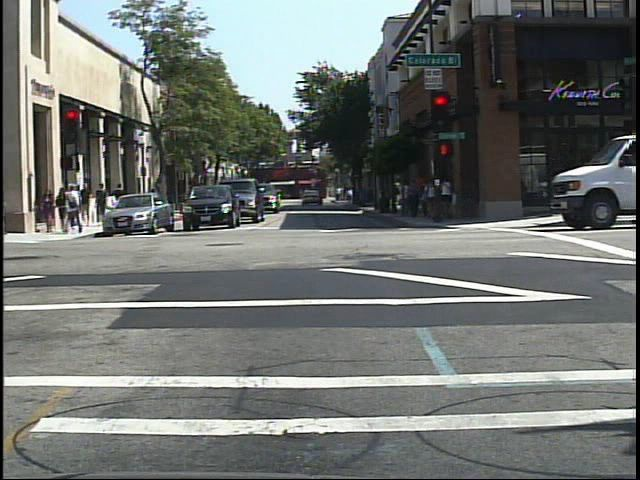person: (62, 181, 85, 239)
